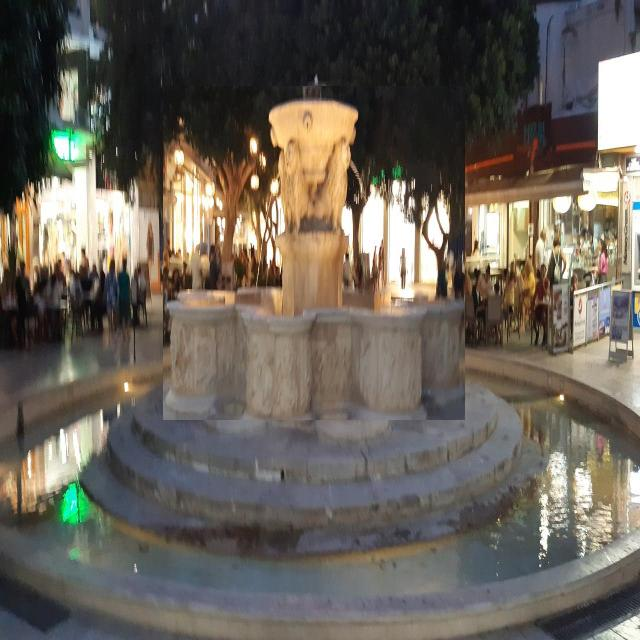Liontaria: (165, 87, 467, 421)
